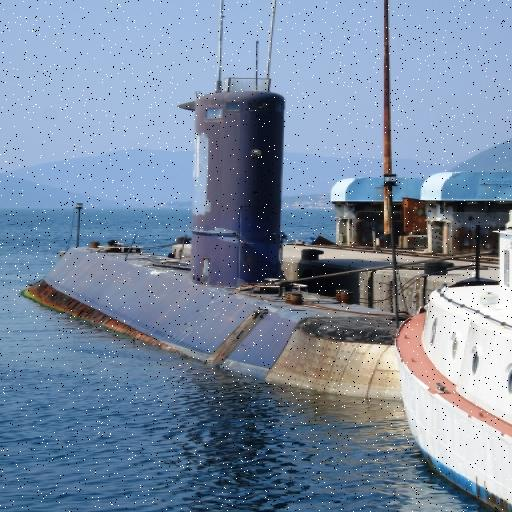submarine: (17, 94, 412, 401)
